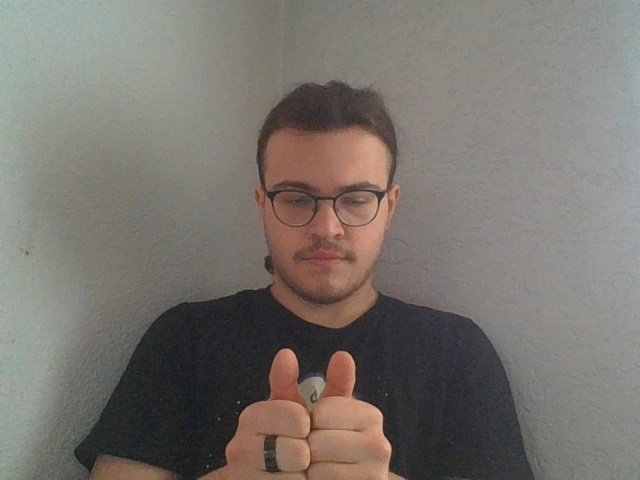Agree: (222, 347, 394, 480)
